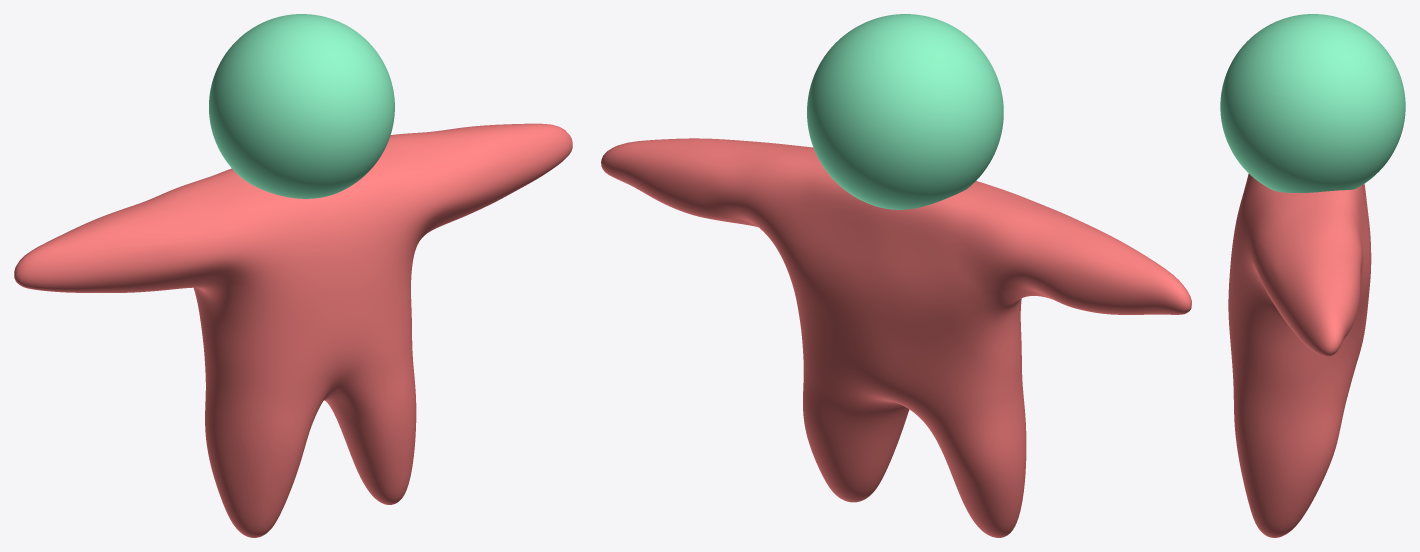
Rendered from Body.fbx.
3 renders of one model, left to right at view 1: azimuth 30°, elevation 25°; view 2: azimuth 150°, elevation 25°; view 3: azimuth 270°, elevation 25°, orthographic. The views are drawn at different scales.
Visible parts, largest first — view 1: Body, Head; view 2: Body, Head; view 3: Body, Head.
Part boxes in pixels (x1,y1,x2,y2): Body: [14, 123, 572, 537]; Head: [209, 14, 394, 198]; Body: [601, 138, 1191, 537]; Head: [807, 14, 1003, 209]; Body: [1228, 173, 1371, 537]; Head: [1220, 14, 1405, 192].
Bounding box in the file's own units: 4.61 × 3.82 × 1.34.
